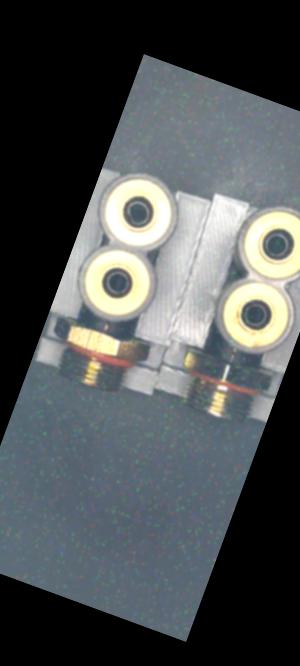craze: (225, 344, 240, 364), (98, 318, 114, 336)
off-centered: (120, 194, 157, 229)
